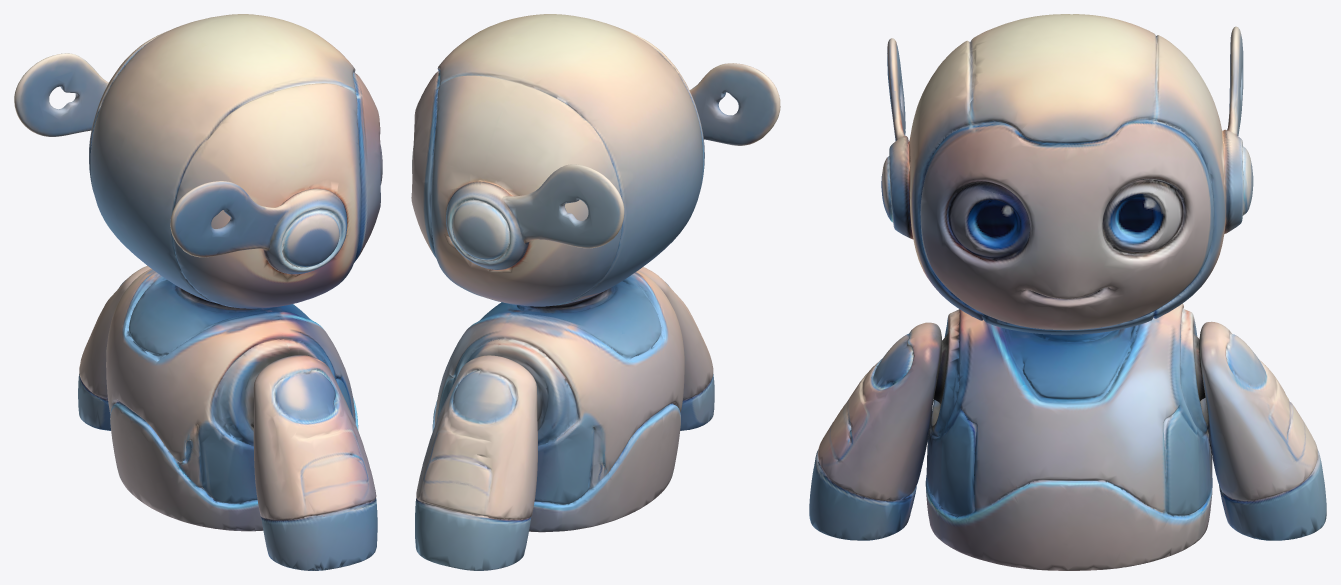
File: Interview_robot-v1.glb
3 renders of one model, left to right at view 1: azimuth 30°, elevation 25°; view 2: azimuth 150°, elevation 25°; view 3: azimuth 270°, elevation 25°, orthographic. The views are drawn at different scales.
Parts seen in each view (by area): view 1: g meshes[0]; view 2: g meshes[0]; view 3: g meshes[0].
Part boxes in pixels (box(x1,y1,x2,y2)): g meshes[0]: box(14, 14, 382, 570); g meshes[0]: box(411, 14, 780, 570); g meshes[0]: box(809, 14, 1326, 570).
Size of the model in its own units: 0.6331 by 0.9999 by 0.957.
Materials: 1 (1 with a texture image).
